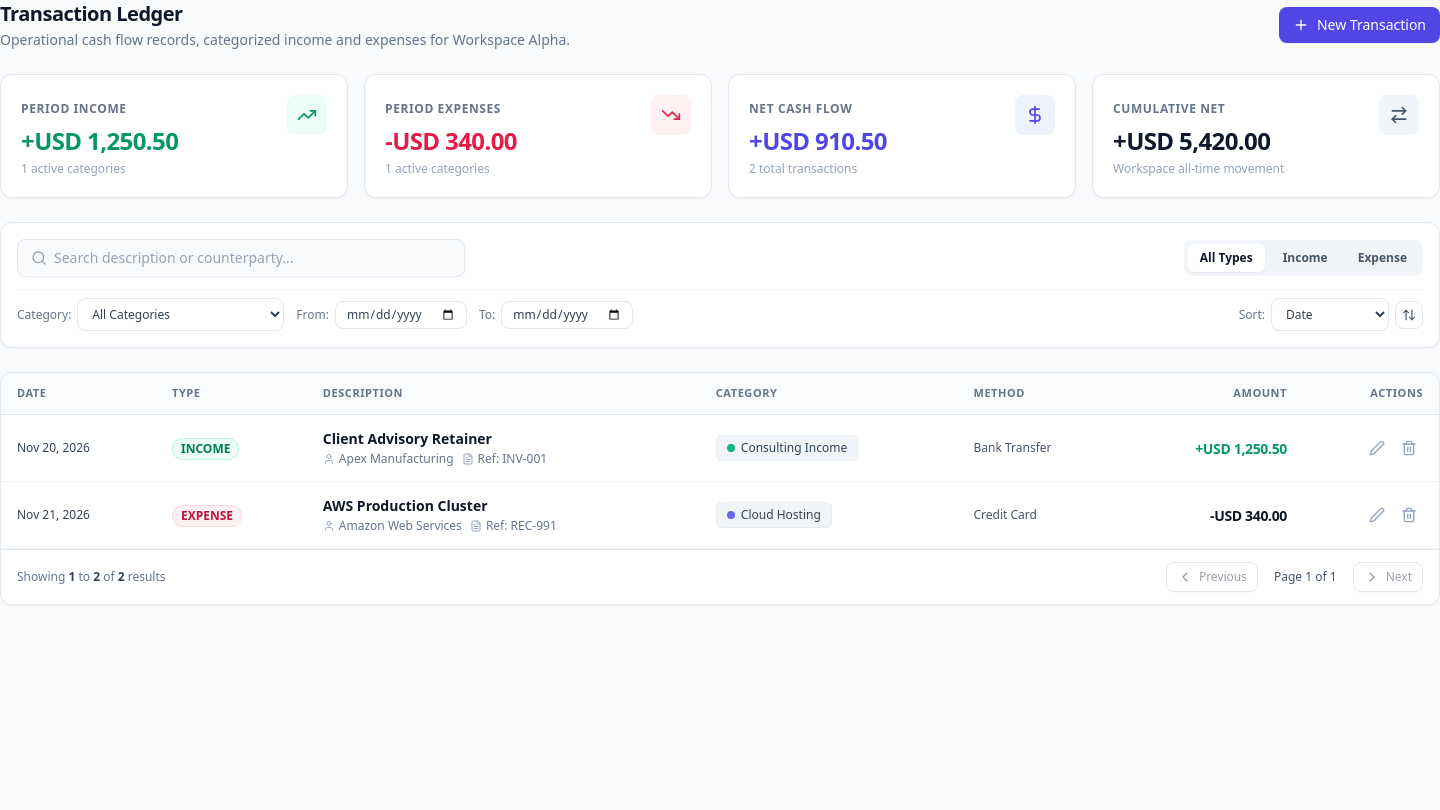
Test: Transaction Ledger Component & Hook Tests › Scenario 7: Date Validation enforces non-future UTC dates in modal
This screenshot has width=1440, height=810.
Click the button "New Transaction".
click(1359, 25)  # box [1279,7,1439,43]
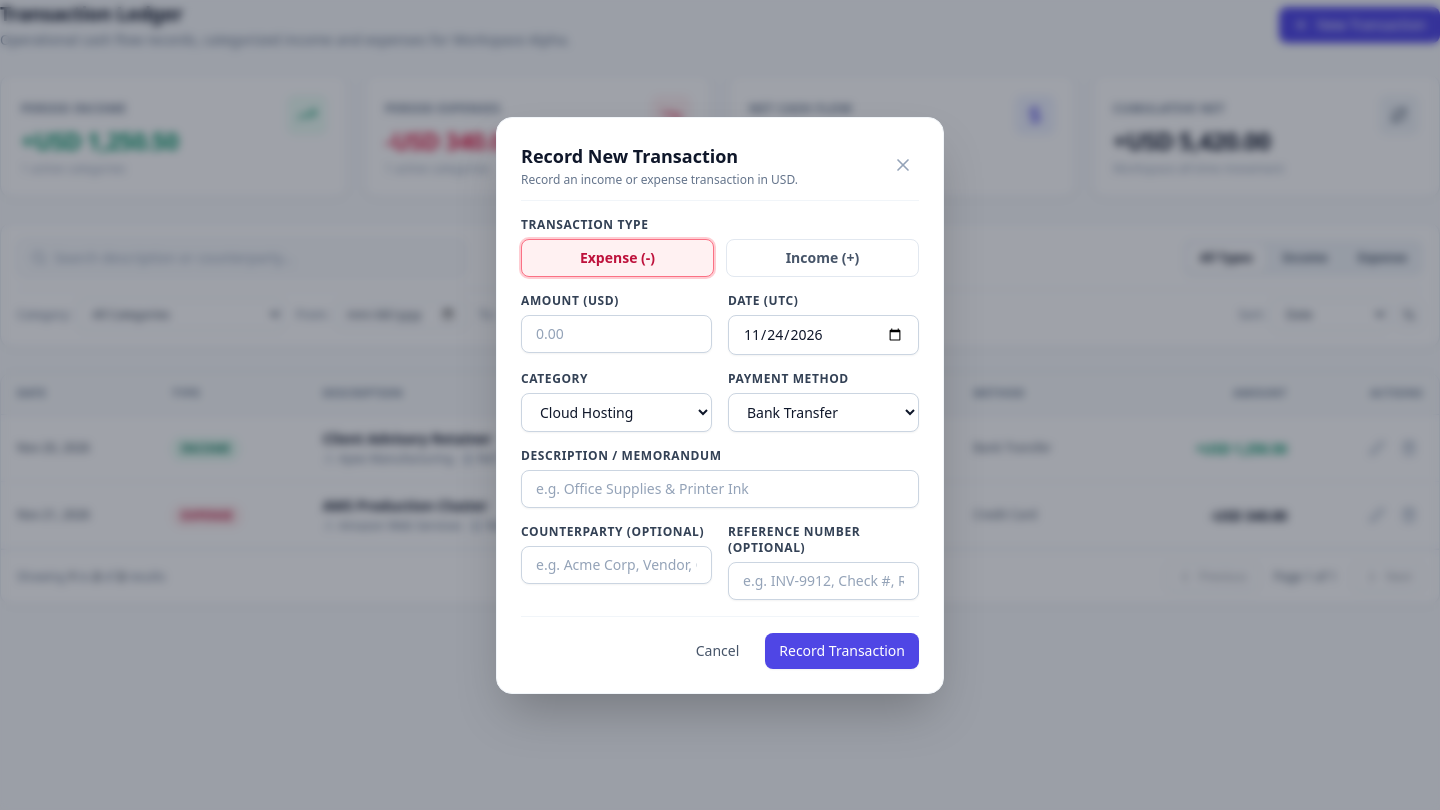
Type "100.00" into the field labelled "Amount (USD)".
click(616, 334); type("100.00")  # box [521,314,712,352]
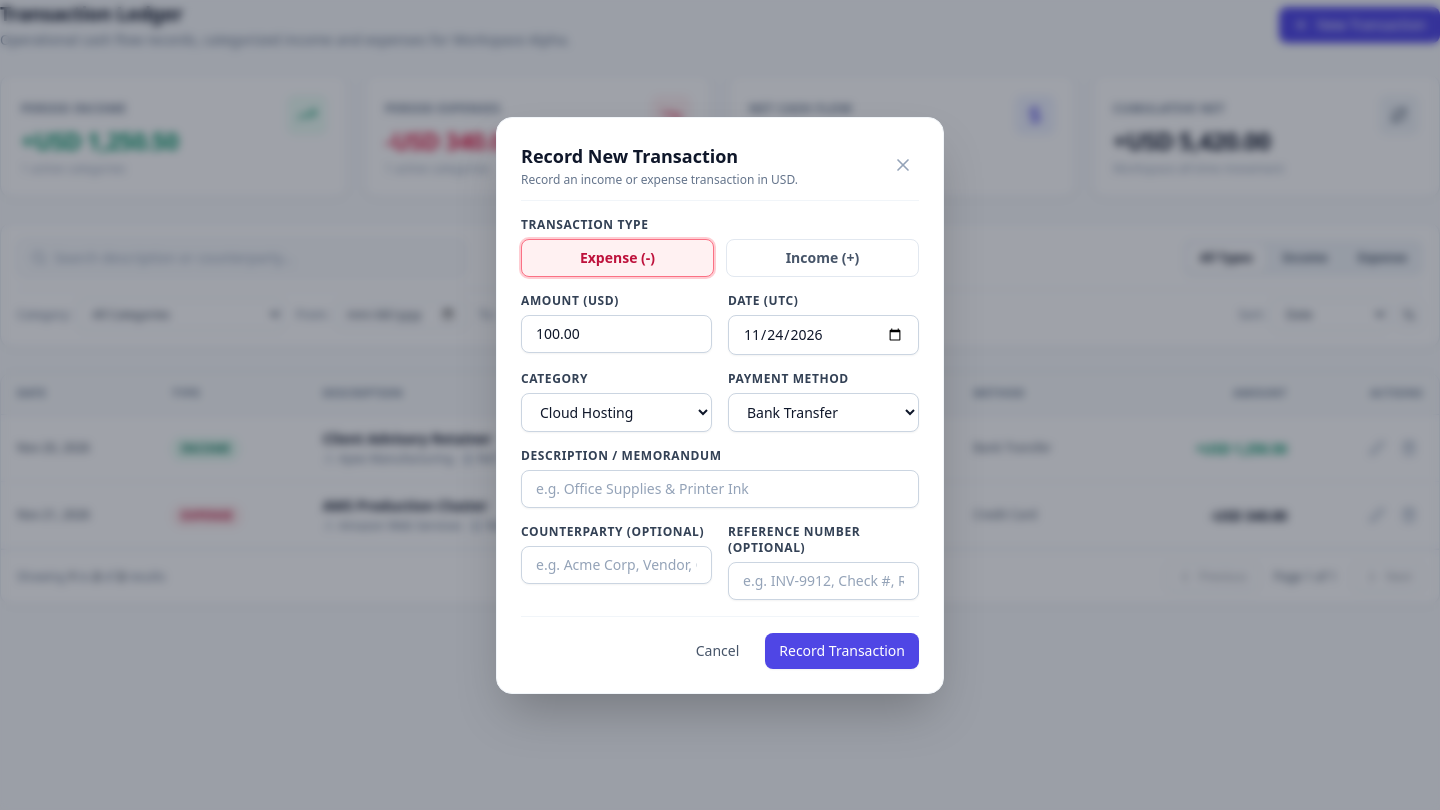
Type "Test item" into the field labelled "Description / Memorandum".
click(720, 488); type("Test item")  # box [521,470,919,508]
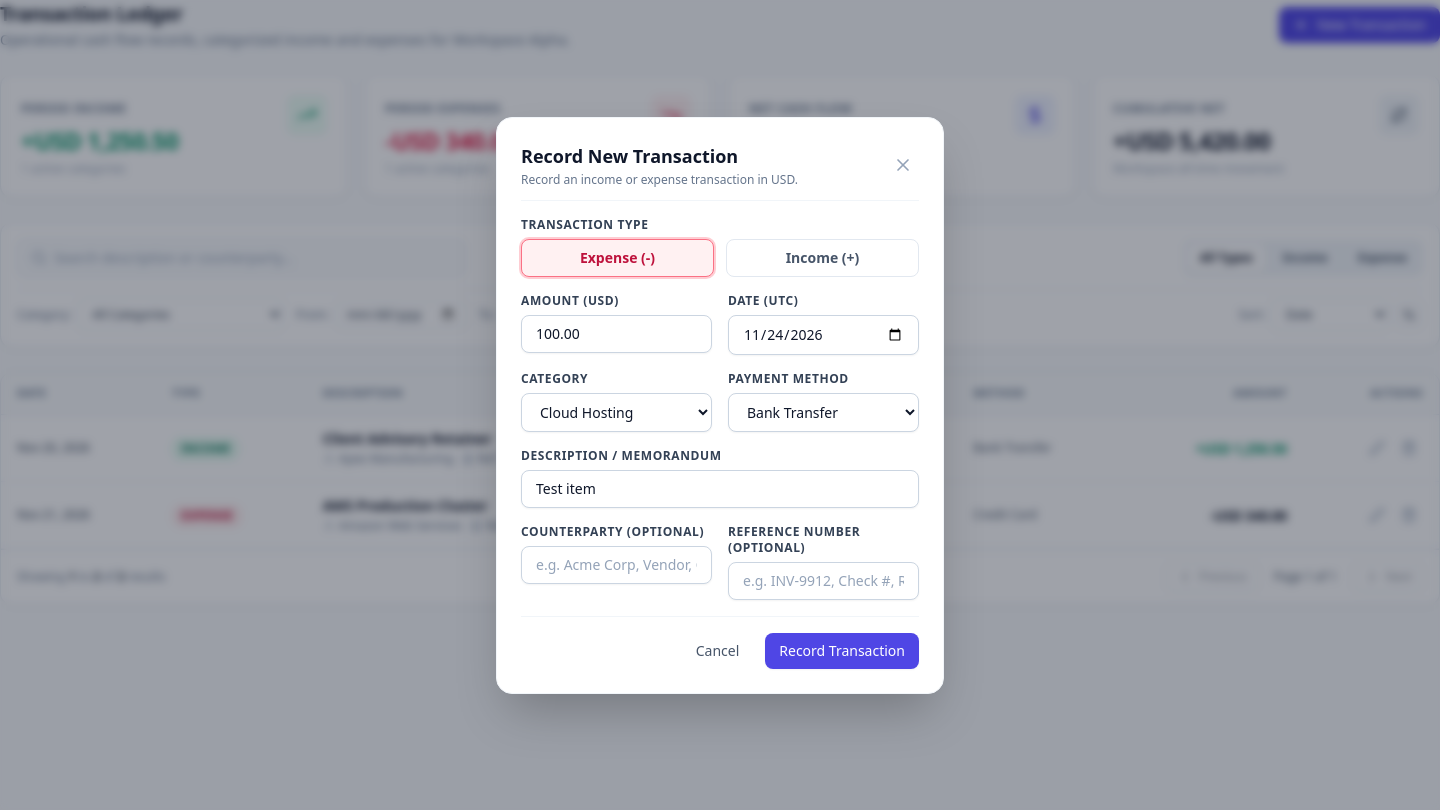
# Set future date
Type "2099-12-31" into the date field labelled "Date (UTC)".
click(824, 334); type("2099-12-31")  # box [728,314,919,354]
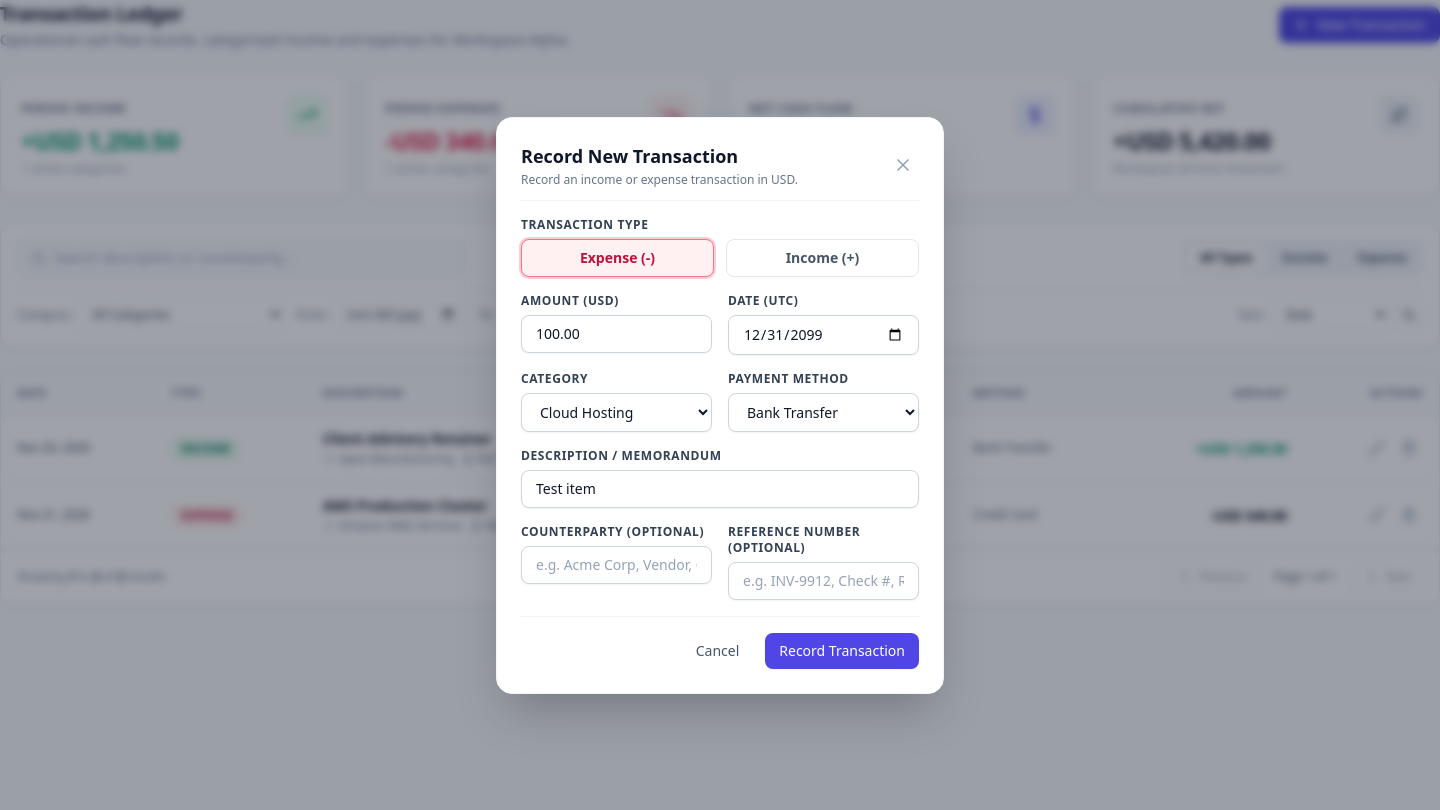
Click the button "Record Transaction".
click(842, 650)  # box [765,632,919,668]
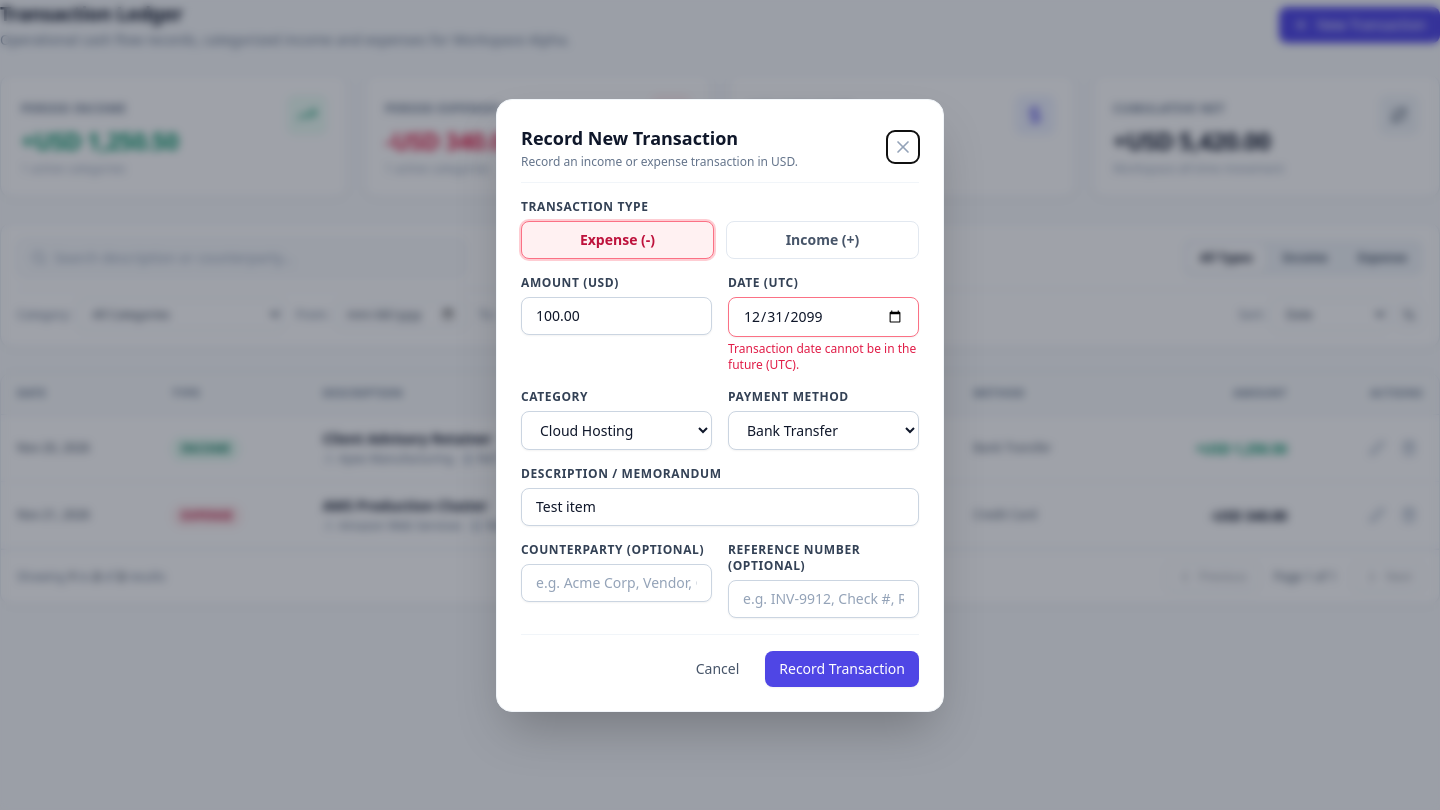
Result: the text "Transaction date cannot be in the future (UTC)." is shown at [728,340,919,372]
